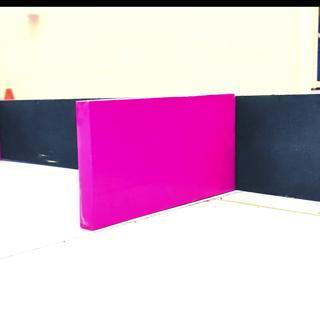xparking: (77, 99, 234, 206)
